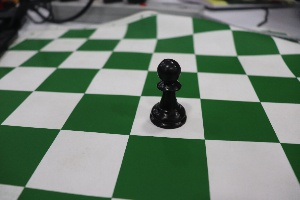black_pawn: (148, 50, 187, 130)
